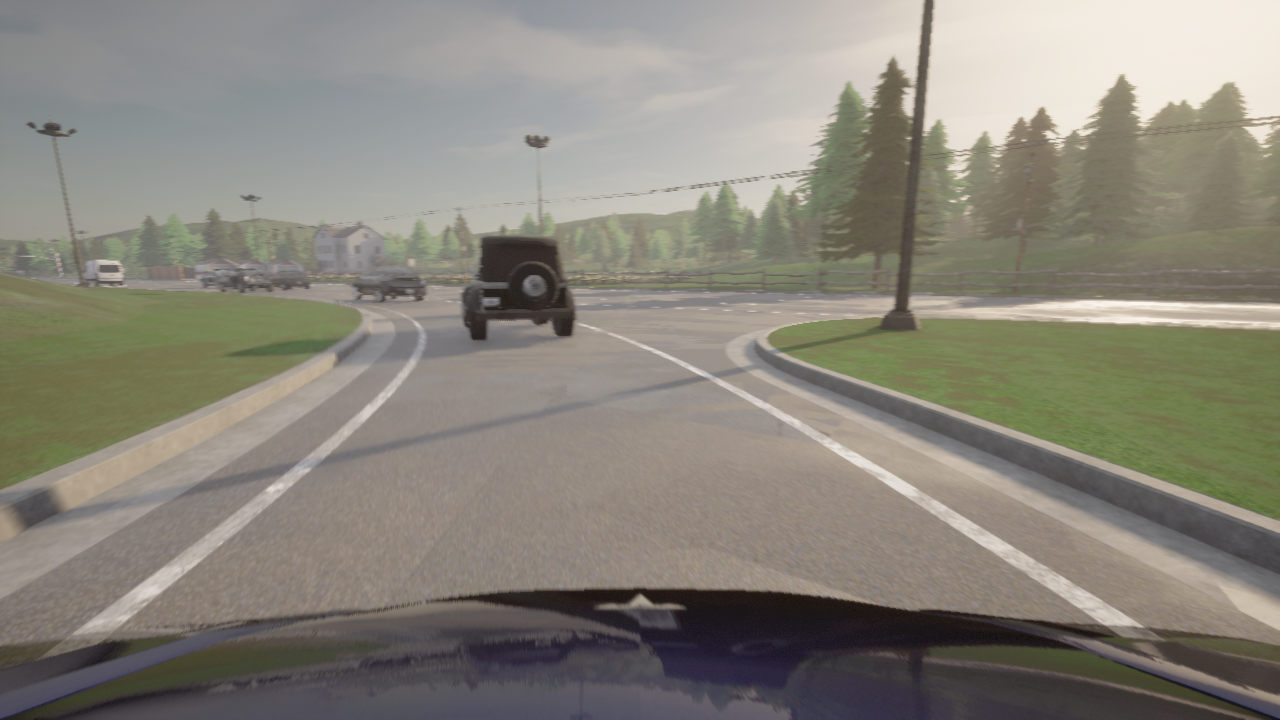cyclist: (0, 588, 1279, 719), (461, 234, 575, 340), (352, 266, 425, 301), (218, 269, 273, 292), (82, 260, 123, 285), (272, 270, 310, 290), (202, 269, 229, 287)
